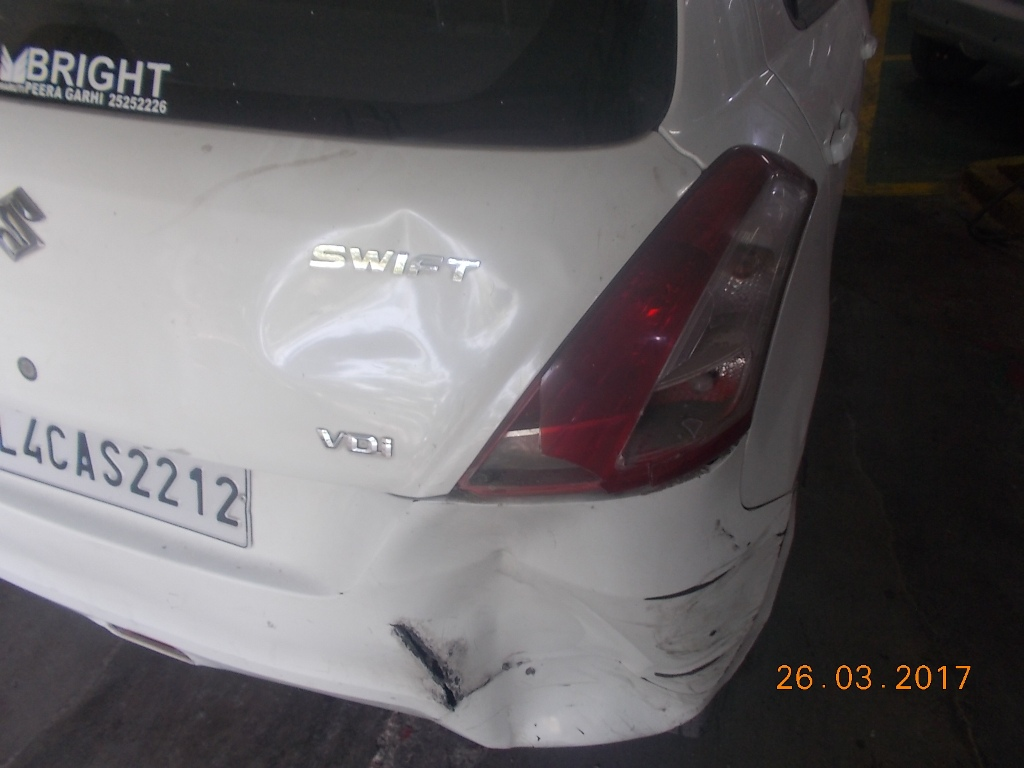Dent: (250, 200, 515, 400), (469, 515, 663, 738)
Tear: (389, 615, 460, 700)
